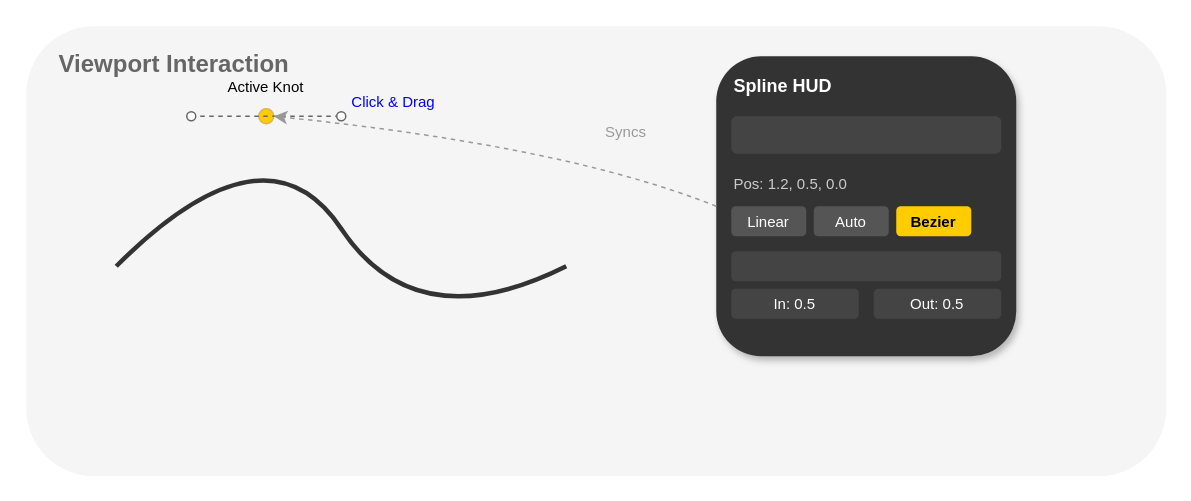
Some shapes in this 1191 by 501 pixel diagram are drawn without their labels. The shapes that lost their labels are listed below. From the top down, each one's centre as x and y in pixels, then its label:
the point at 865,134: Draw Spline Mode
the point at 865,265: Mode: Mirrored
